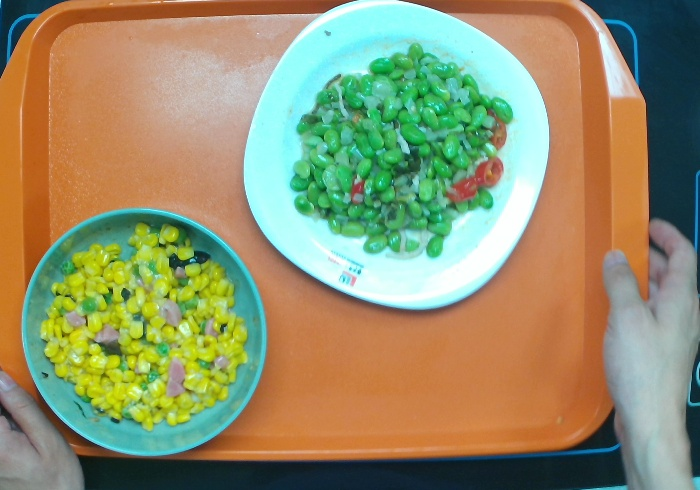ZNLD-Qing_Hua_Yuan_Wan: (23, 205, 269, 460)
ZNLD-Yuan_Jiao_Pan: (236, 3, 552, 317)
